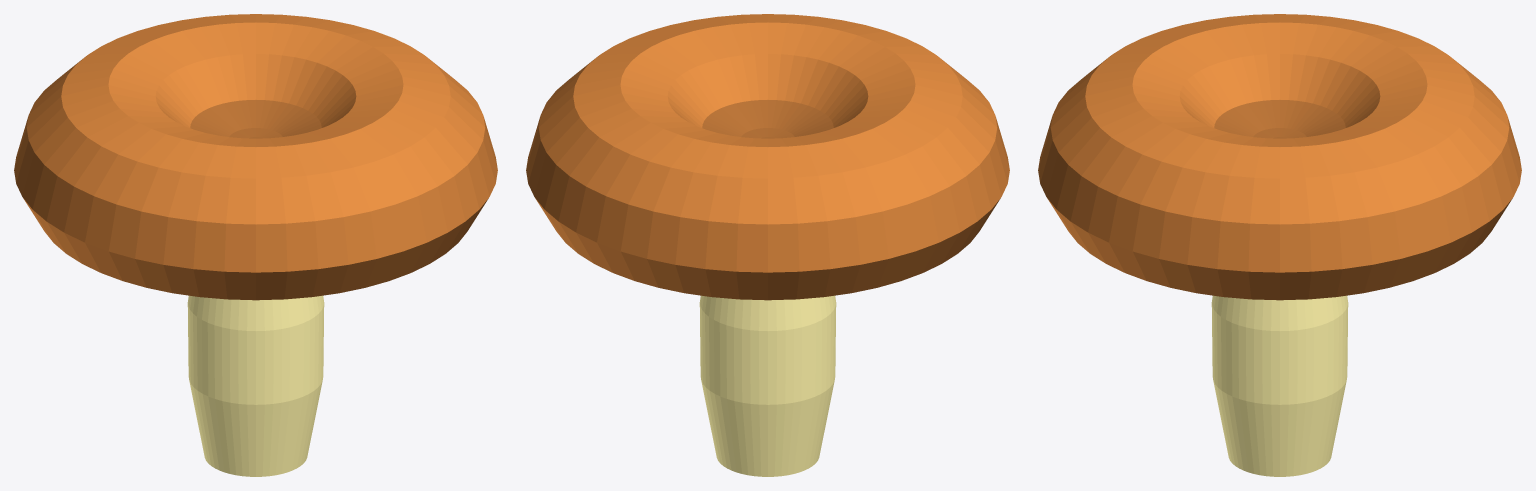
Rendered from red pine.fbx.
3 views of the same model, side by side, from view 1: azimuth 30°, elevation 25°; view 2: azimuth 150°, elevation 25°; view 3: azimuth 270°, elevation 25° (orthographic).
Visible parts, largest first — view 1: Red pine mushroom; view 2: Red pine mushroom; view 3: Red pine mushroom.
Part boxes in pixels (x1,y1,x2,y2): Red pine mushroom: (14, 14, 497, 476); Red pine mushroom: (526, 14, 1009, 476); Red pine mushroom: (1038, 14, 1521, 476).
Size of the model in its own units: 160 by 135 by 160.
